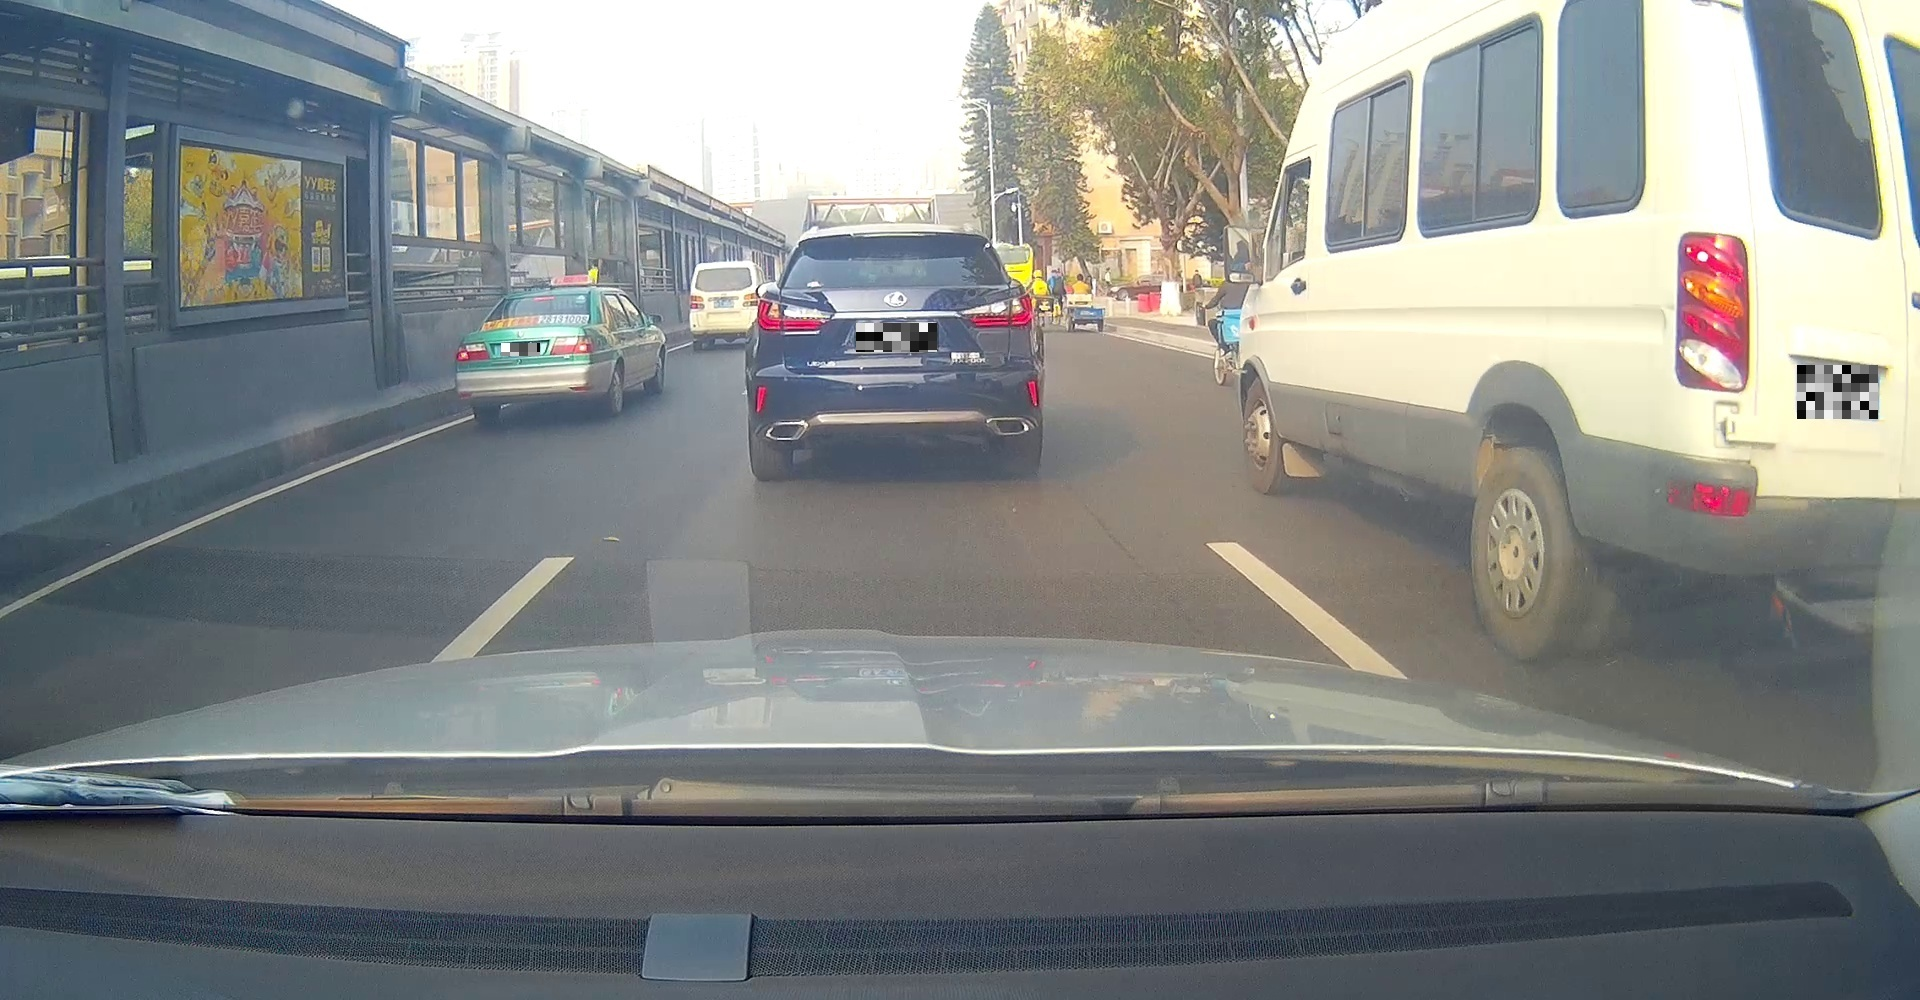L_light: (757, 298, 832, 331), (457, 341, 489, 360)
R_light: (963, 292, 1032, 327), (549, 336, 593, 355)
T_light: (879, 237, 905, 242), (535, 296, 554, 299)
day-brake: (456, 291, 596, 425)
day-no: (745, 228, 1044, 481)
plate_1: (502, 343, 540, 357)
plate_2: (856, 324, 937, 352)
plate_3: (1797, 365, 1878, 419)
